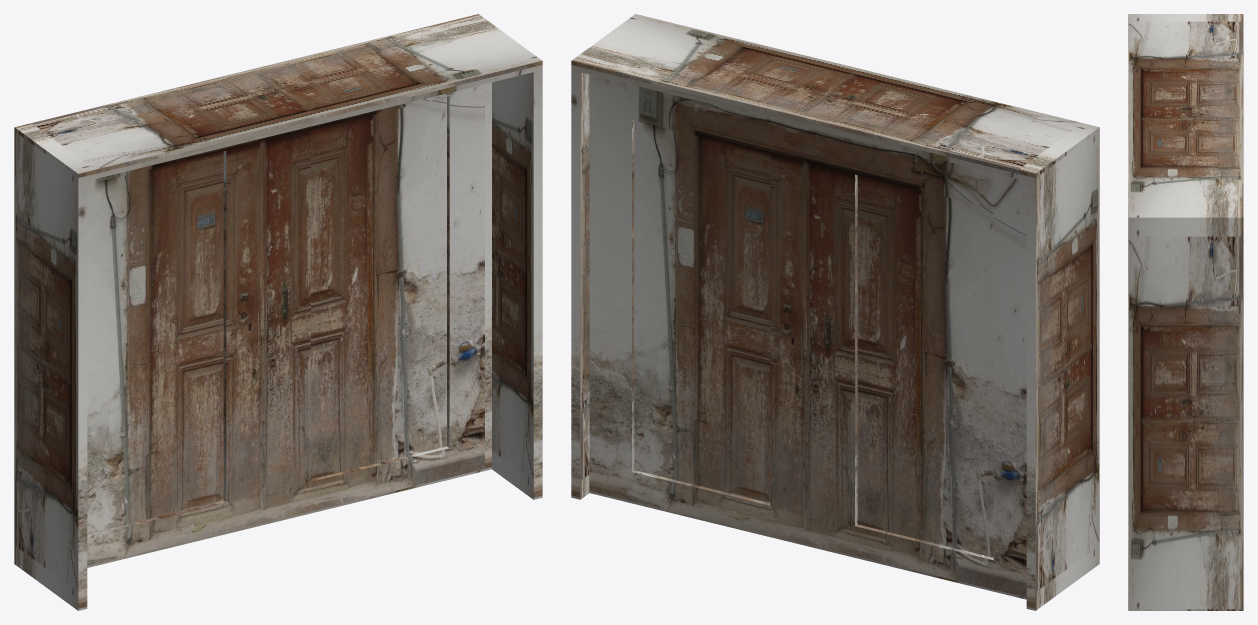
File: MainDoor.FBX
3 renders of one model, left to right at view 1: azimuth 30°, elevation 25°; view 2: azimuth 150°, elevation 25°; view 3: azimuth 270°, elevation 25°, orthographic. The views are drawn at different scales.
Visible parts, largest first — view 1: PivotDoor001; view 2: PivotDoor001; view 3: PivotDoor001.
Boxes of the visible parts, left/top/right/bottom form: PivotDoor001: left=14, top=14, right=542, bottom=610; PivotDoor001: left=571, top=14, right=1099, bottom=610; PivotDoor001: left=1128, top=14, right=1243, bottom=610.
Size of the model in its own units: 116 by 105 by 27.73.
1 material, 1 textured.
